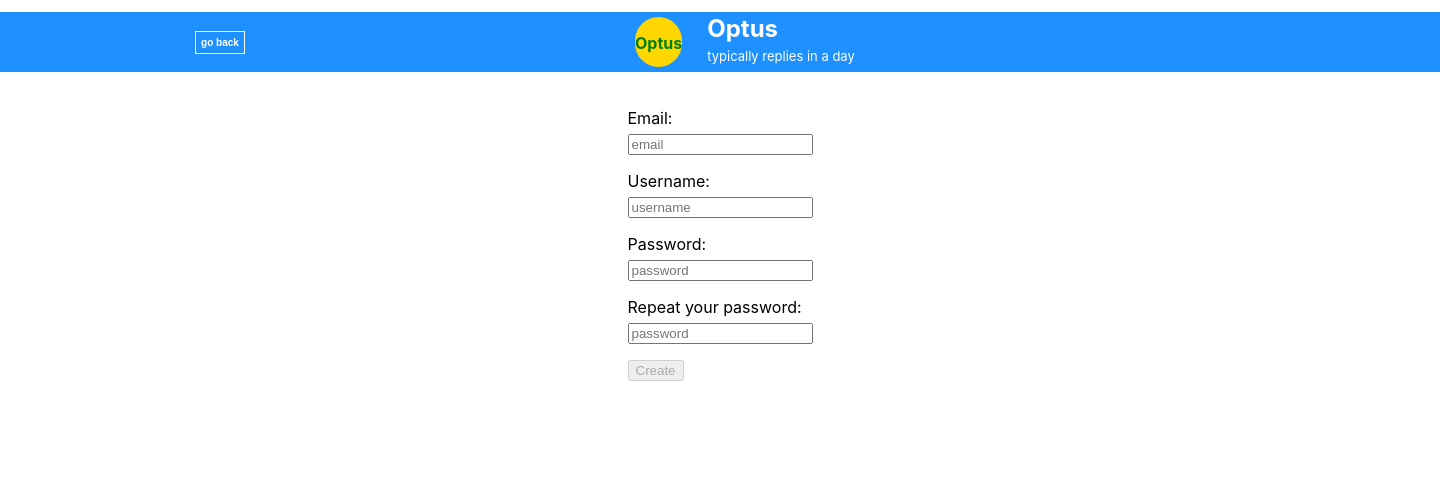
Scenario: 2. Testes da tela de Register: › 2.2. Verificação se ao cadastrar os dados do usuário senha inválidos são    apresentadas as mensagens de erro.
The width and height of the screenshot is (1440, 494).
Type "invalidMail" into the field with test id "rgt-inp-email" at (720, 144), box [628,134,812,155]
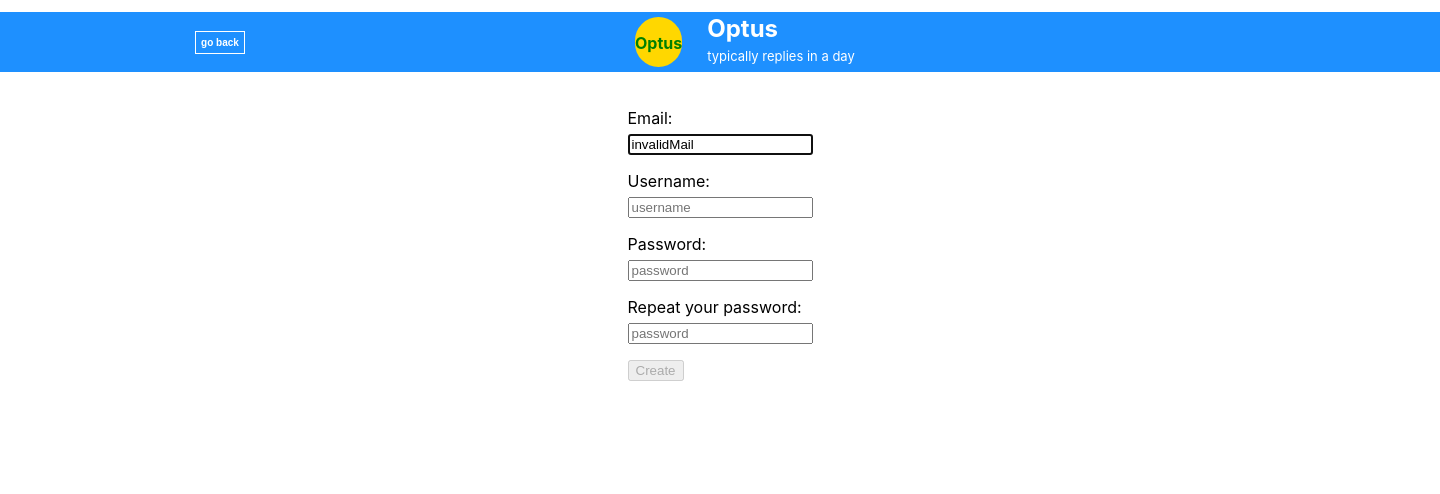
Type "inv" into the field with test id "rgt-inp-username" at (720, 208), box [628,197,812,218]
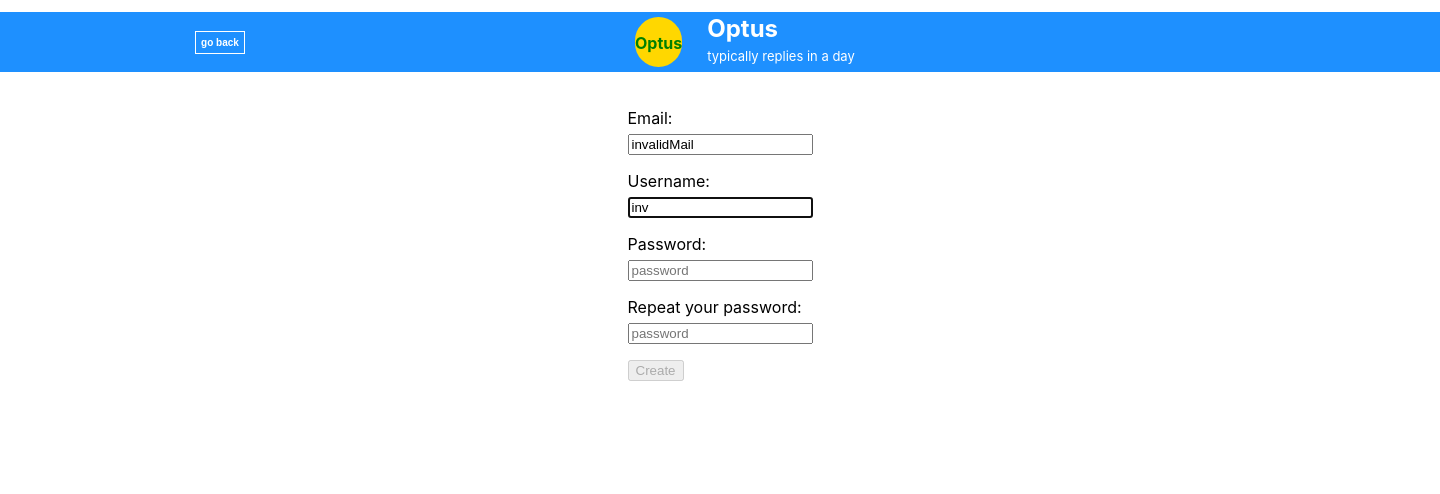
Type "pass" into the password field with test id "rgt-inp-password" at (720, 270), box [628,260,812,281]
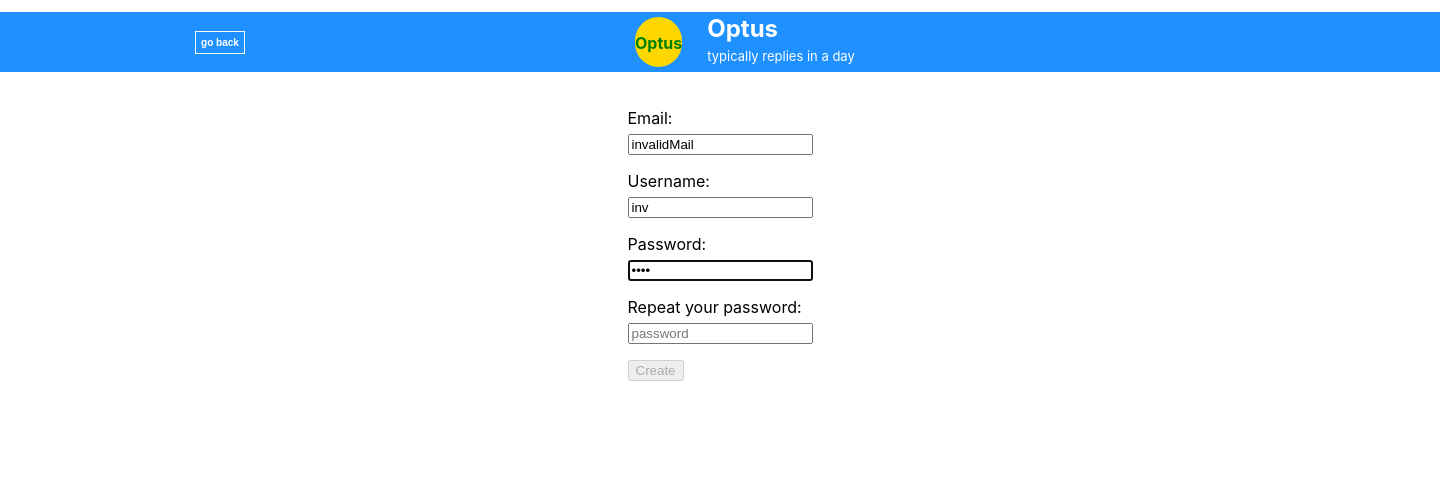
Type "invPass" into the password field with test id "rgt-inp-repeatPass" at (720, 334), box [628,323,812,344]
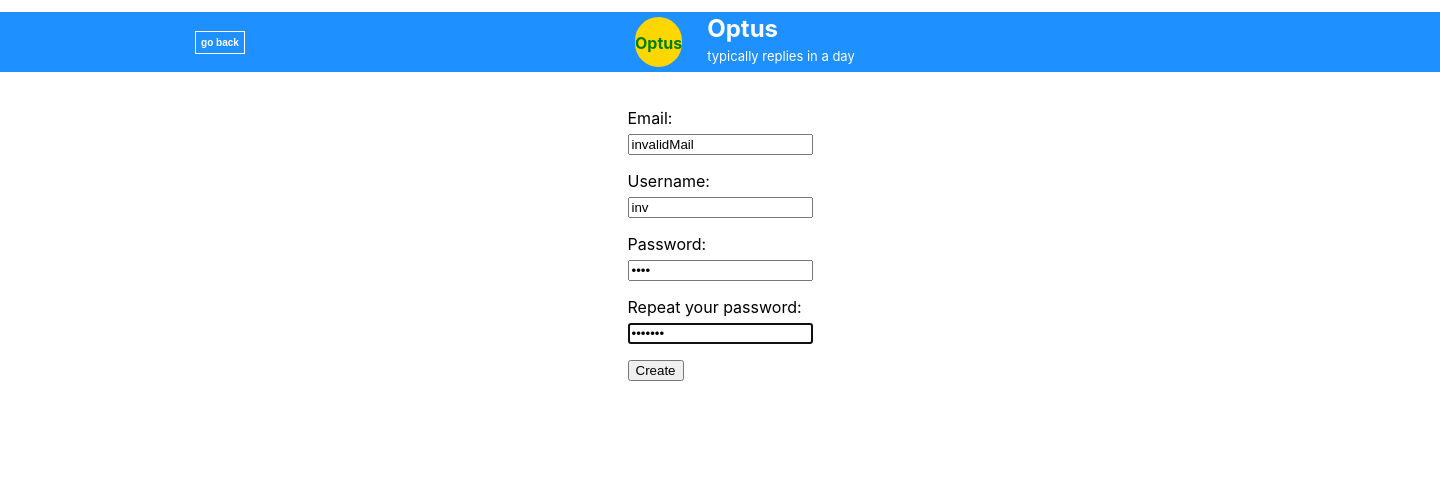
Click the button with test id "rgt-btn-create" at (656, 370), box [628,360,684,381]
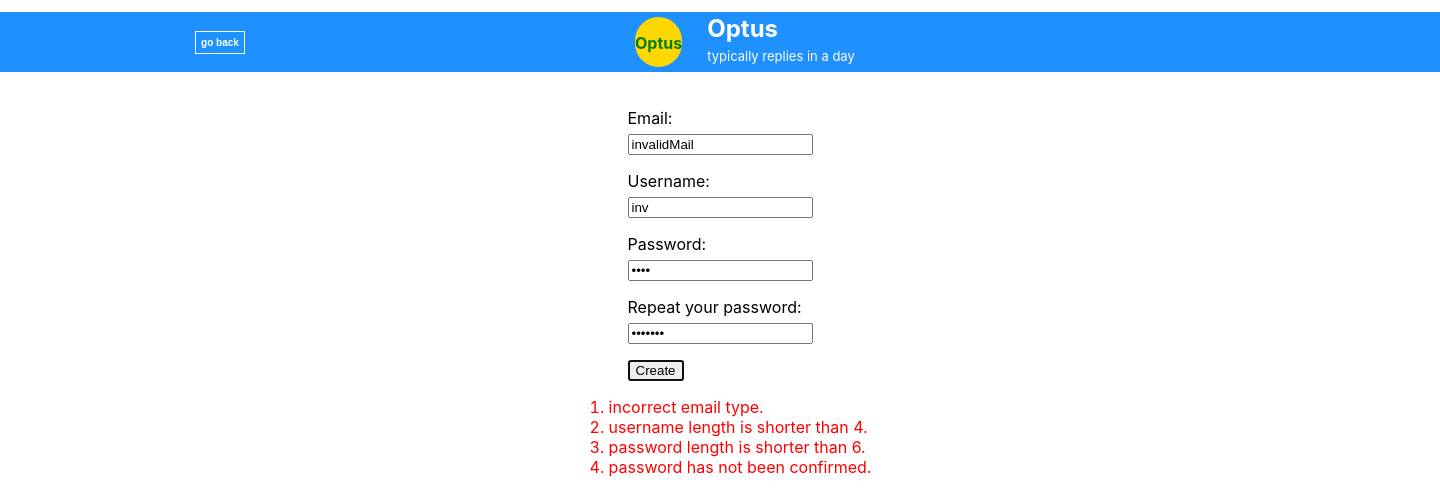
Check: the list item "incorrect email type." is shown, box [609,397,764,417]
Check: the list item "username length is shorter than 4." is shown, box [609,417,872,437]
Check: the list item "password length is shorter than 6." is shown, box [609,437,872,457]
